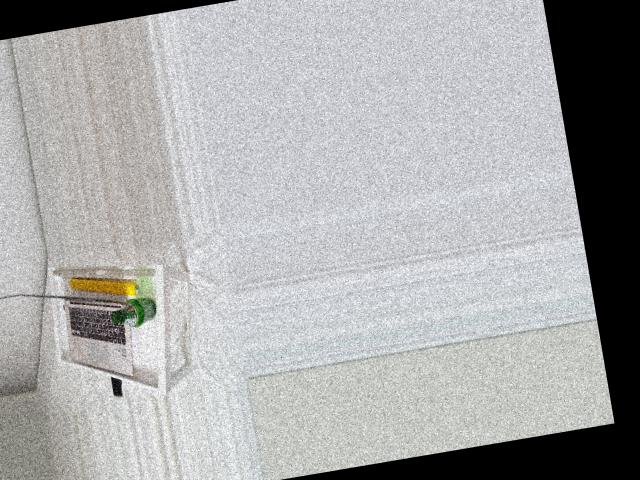beer: (110, 295, 158, 330)
